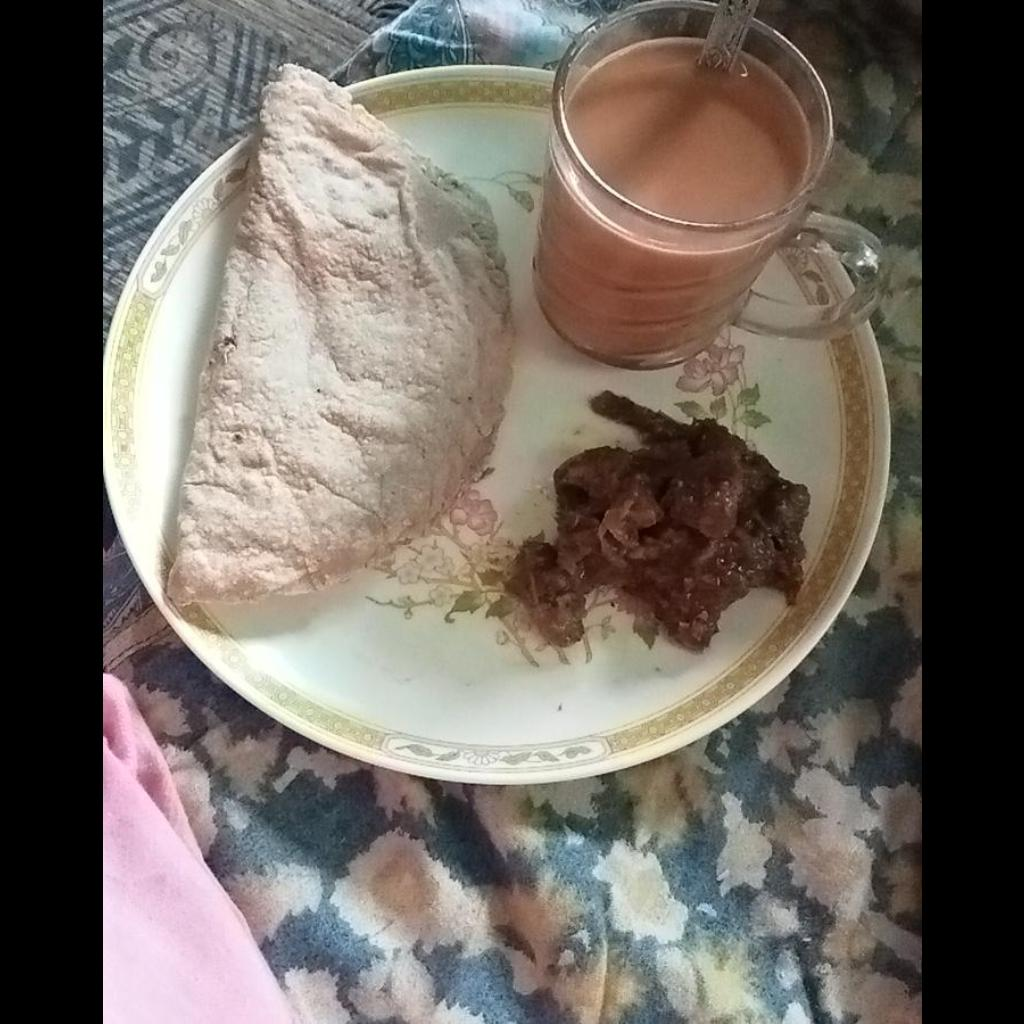cha: (566, 40, 806, 220)
chicken: (506, 390, 806, 652)
ruti: (161, 65, 513, 607)
